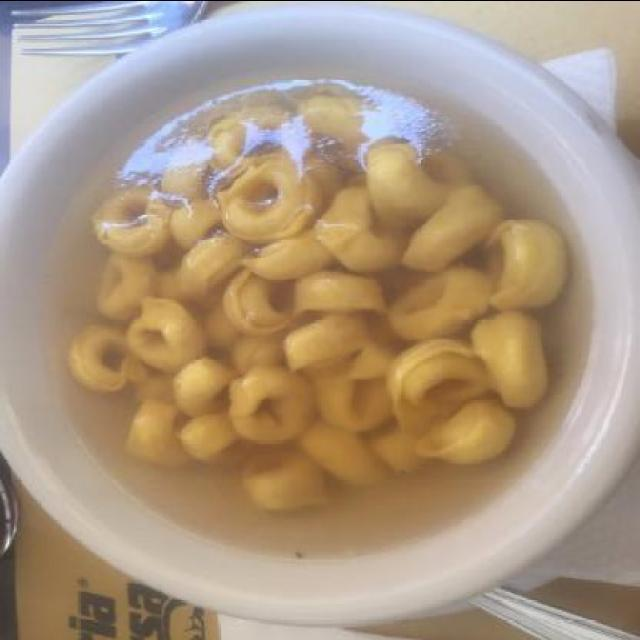Tortellini in broth: (56, 70, 546, 513)
